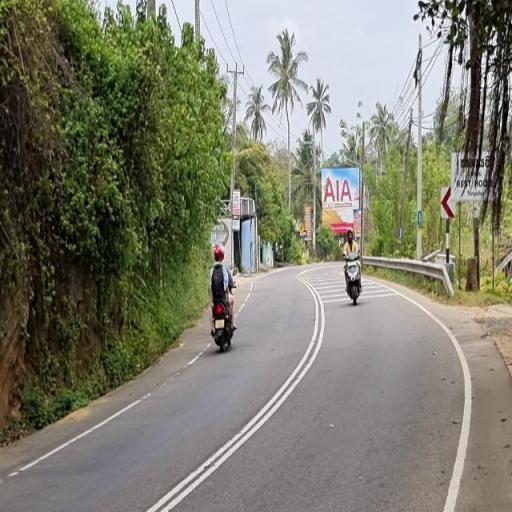double_white_line: (142, 282, 326, 510)
